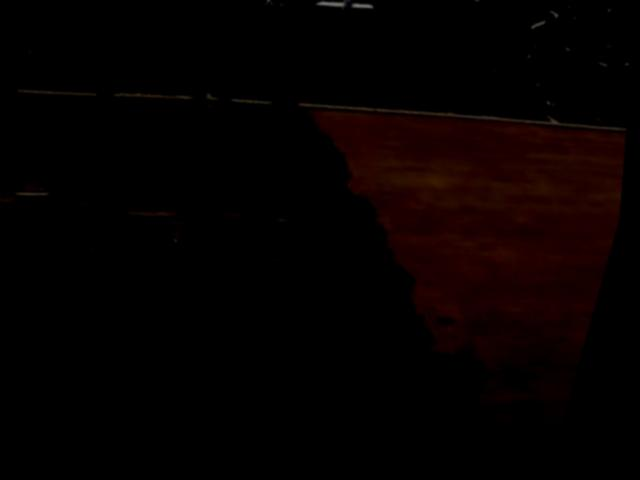iha: (230, 0, 467, 51)
